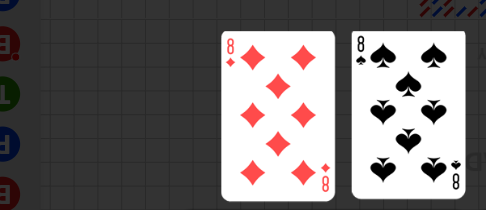8D: (225, 37, 236, 69)
8S: (449, 157, 462, 191)
